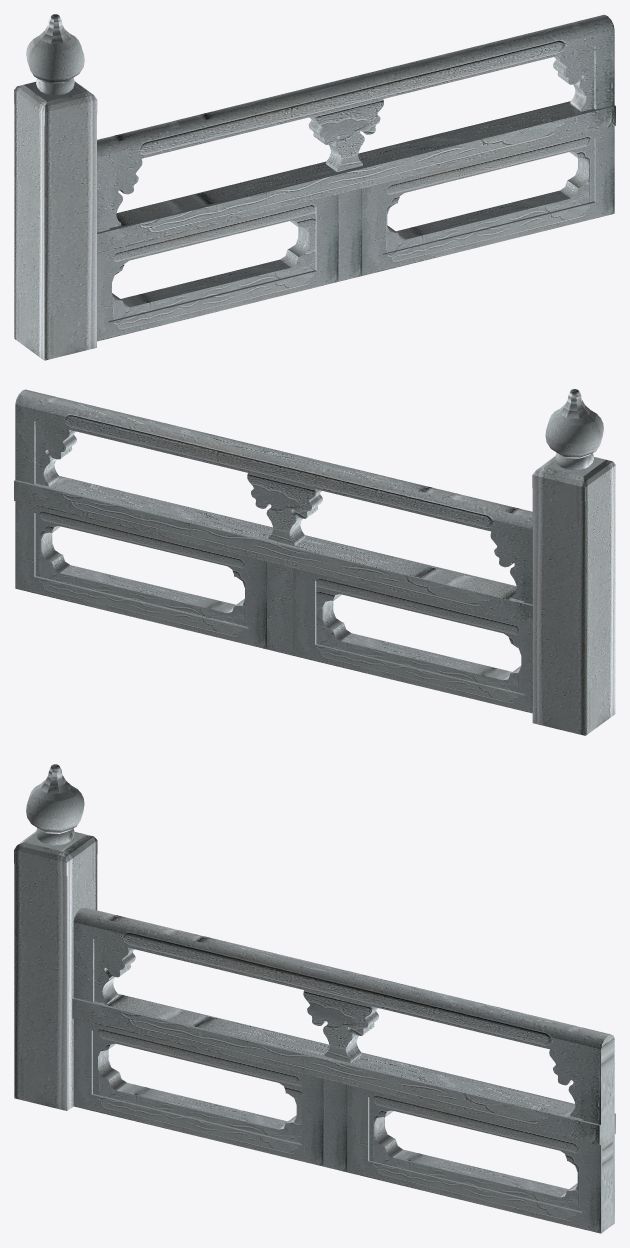
Rendered from guardbar03.gltf.
3 views of the same model, one above another, from view 1: azimuth 30°, elevation 25°; view 2: azimuth 150°, elevation 25°; view 3: azimuth 330°, elevation 25° (orthographic).
Visible parts, largest first — view 1: Box2131636918; view 2: Box2131636918; view 3: Box2131636918.
Part boxes in pixels (x1=…): Box2131636918: x1=14, y1=14, x2=615, y2=360; Box2131636918: x1=14, y1=389, x2=615, y2=735; Box2131636918: x1=14, y1=764, x2=615, y2=1233.
Bounding box in the file's own units: 1.6 × 0.8684 × 0.1483.
2 materials, 2 textured.
